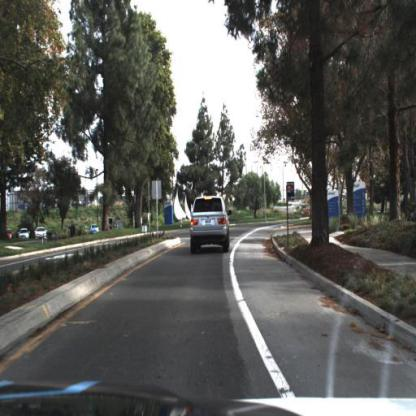car: (189, 195, 229, 254), (35, 224, 49, 241), (68, 218, 78, 241), (35, 225, 47, 239), (20, 226, 31, 240), (90, 223, 100, 233)
pedestrian: (71, 220, 76, 238)
